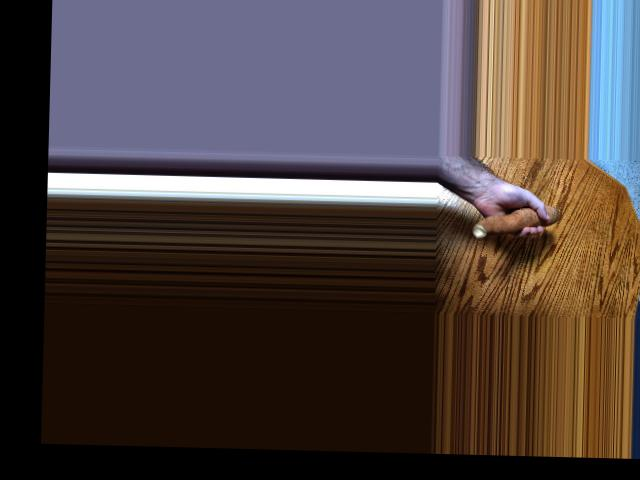sweet_potato: (465, 199, 552, 236)
